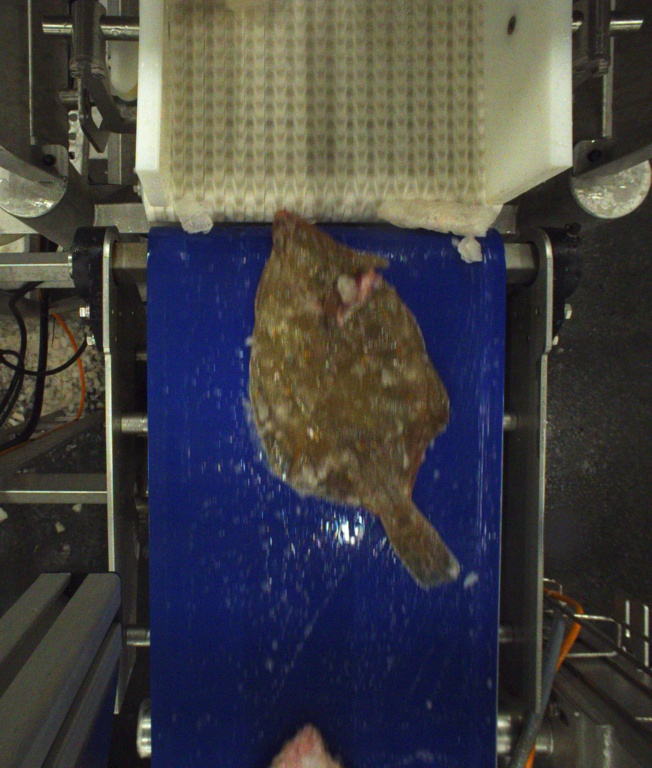PLE: (252, 206, 465, 583)
